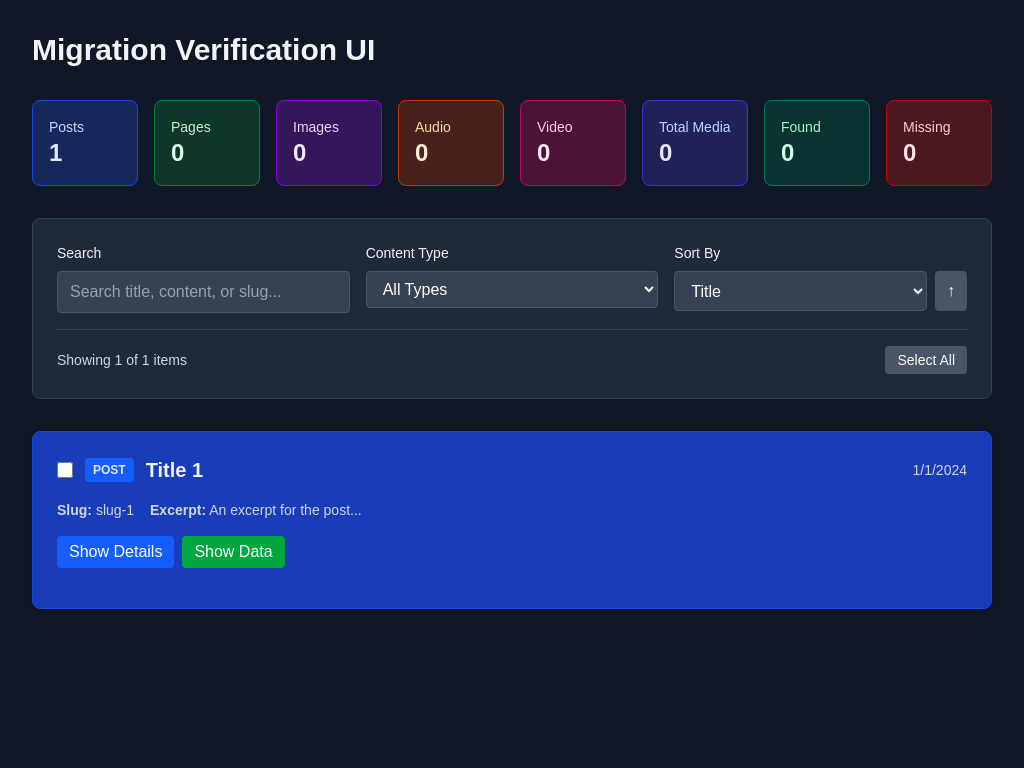
VerifyMigrationUI — details and data toggling › shows an empty Original Content block when the original record has no post_content string
Expected: the heading "Title 1" is shown, [146, 459, 203, 481]
Click the button "Show Details". click: x=116, y=552
box: [57, 536, 174, 568]
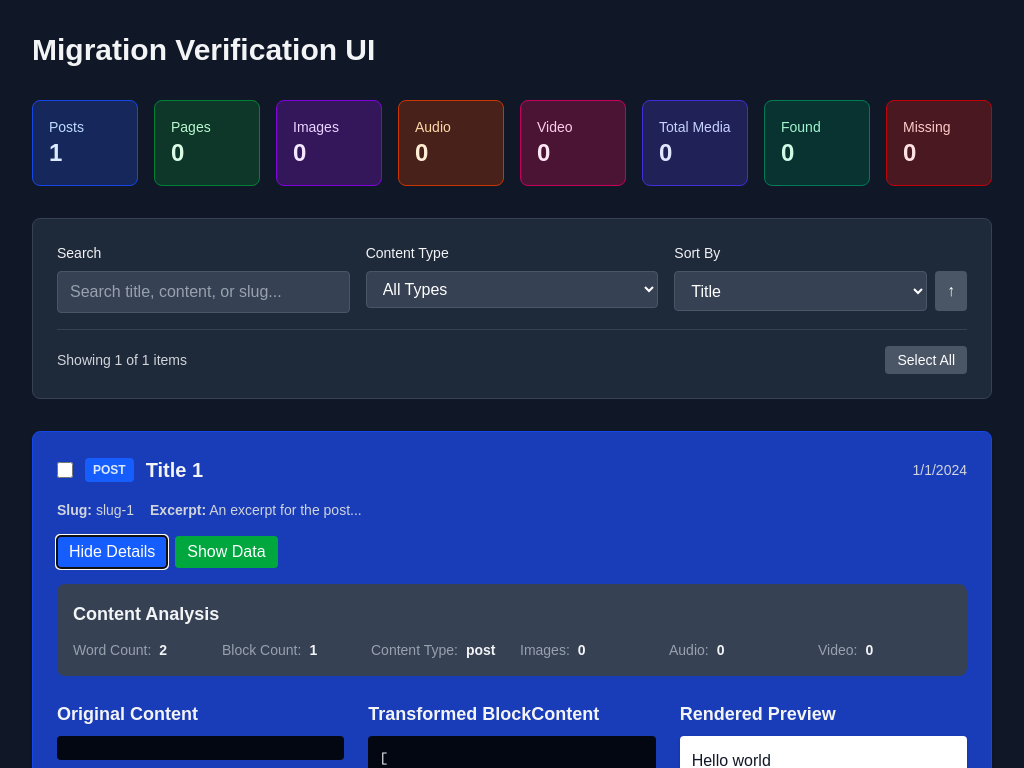
Expected: the heading "Original Content" is shown, [57, 704, 198, 724]
